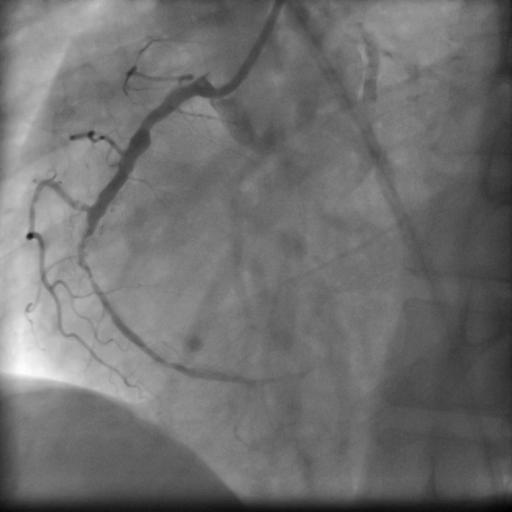Stenosis: (133, 110, 164, 134)
